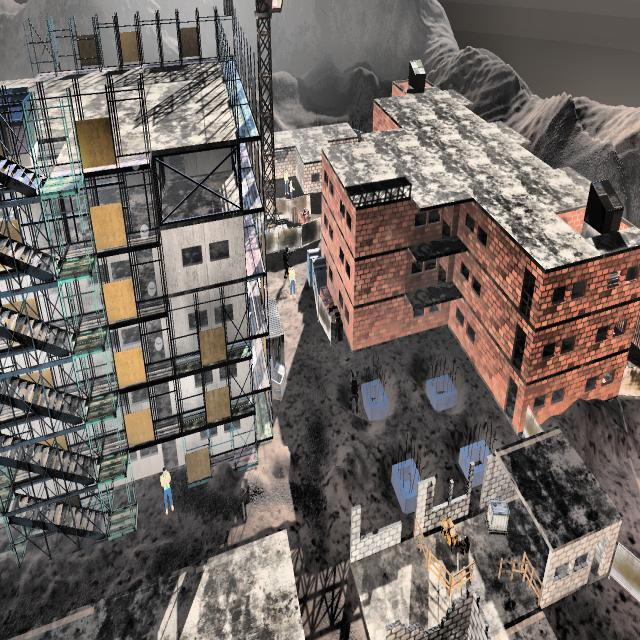bad: (345, 363, 363, 420), (280, 236, 290, 281)
good: (152, 464, 180, 522), (288, 261, 298, 304), (288, 176, 295, 200), (284, 162, 288, 196)
